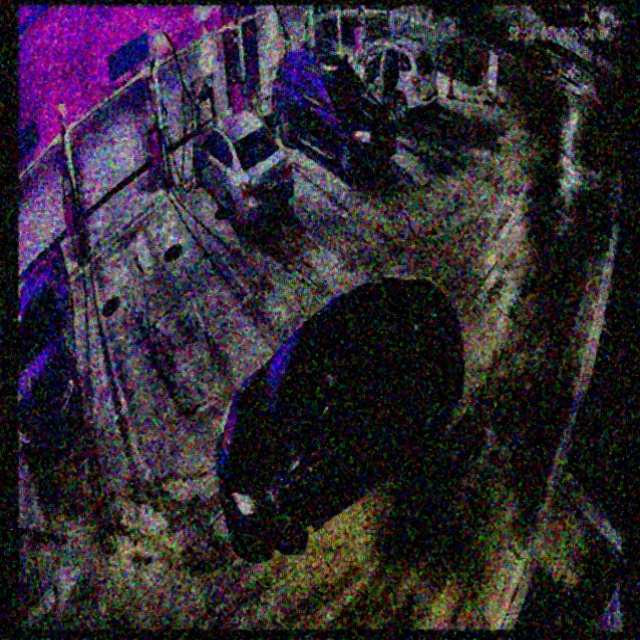Car: (214, 278, 467, 562), (272, 51, 397, 183), (192, 110, 292, 226)
